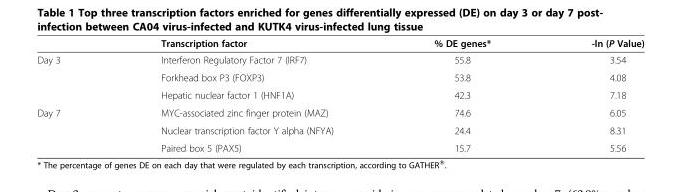table: (36, 37, 643, 153)
table column: (110, 37, 383, 153), (383, 37, 540, 153), (540, 37, 643, 153), (36, 37, 110, 153)
table column header: (36, 37, 643, 51)
table row: (36, 85, 643, 103), (36, 103, 643, 121), (36, 51, 643, 68), (36, 68, 643, 85), (36, 121, 643, 138), (36, 138, 643, 153), (36, 37, 643, 51)
table spanning cell: (36, 51, 110, 103), (36, 103, 110, 153)
